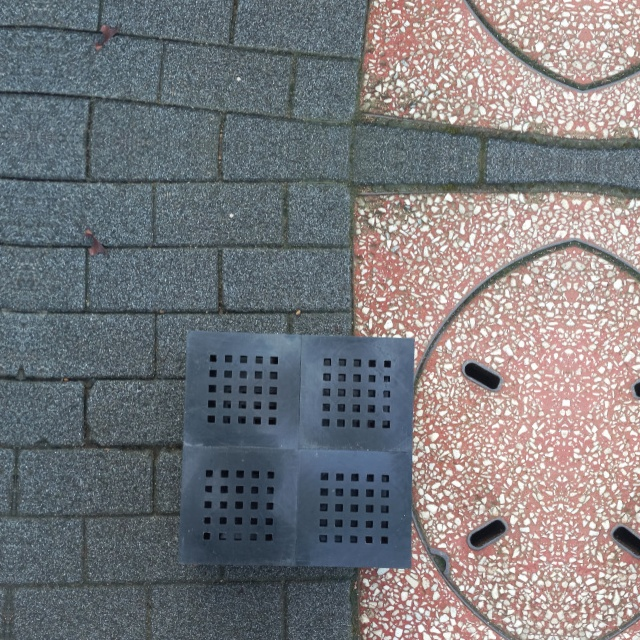pallet: (174, 326, 418, 571)
